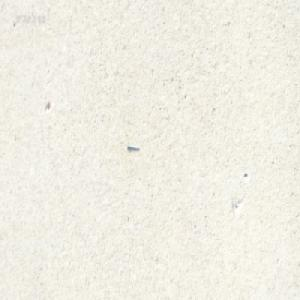Nail: (126, 142, 138, 150)
